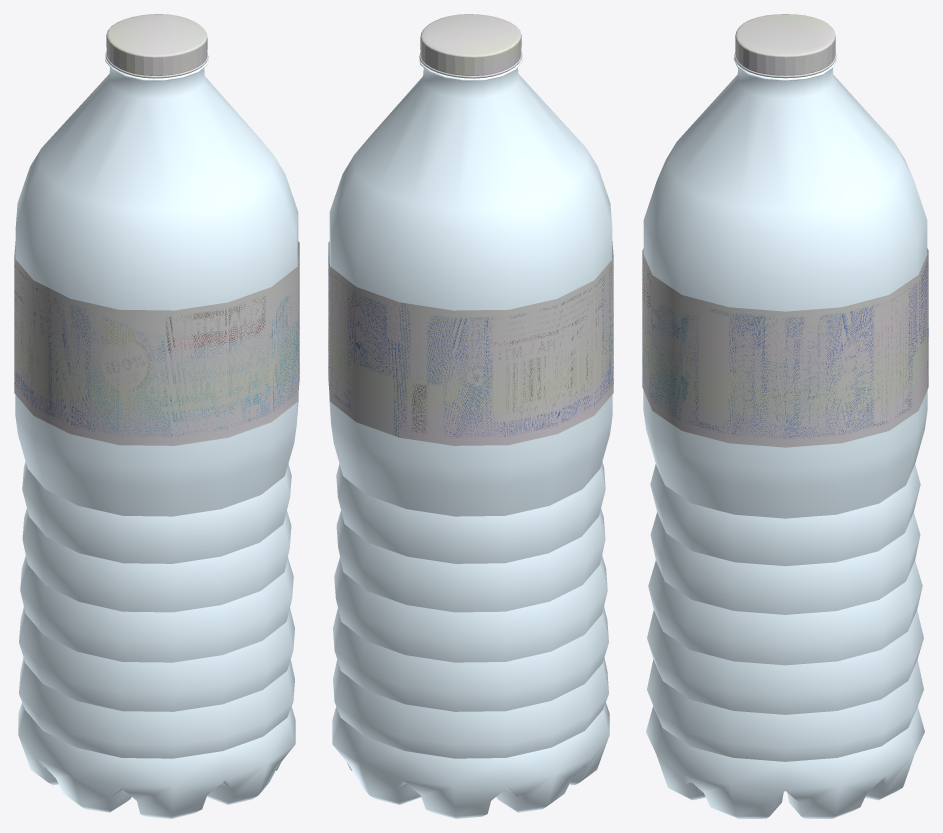
File: water_bottle2.glb
3 renders of one model, left to right at view 1: azimuth 30°, elevation 25°; view 2: azimuth 150°, elevation 25°; view 3: azimuth 270°, elevation 25°, orthographic.
Parts seen in each view (by area): view 1: kirkwater; view 2: kirkwater; view 3: kirkwater.
Part boxes in pixels (<box>): kirkwater: <box>14,14,299,818</box>; kirkwater: <box>328,14,613,818</box>; kirkwater: <box>642,14,928,818</box>.
Bounding box in the file's own units: 1.99 × 5.67 × 1.99.
2 materials, 1 textured.
